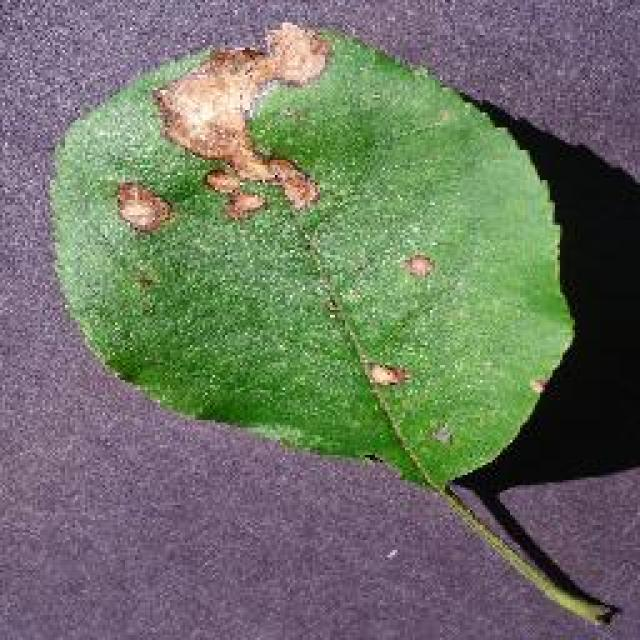Black_rot: (45, 17, 620, 625)
